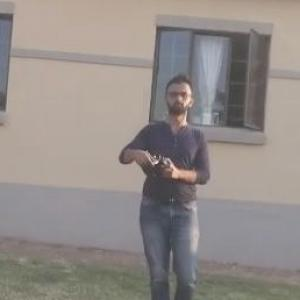follow: (112, 64, 216, 299)
